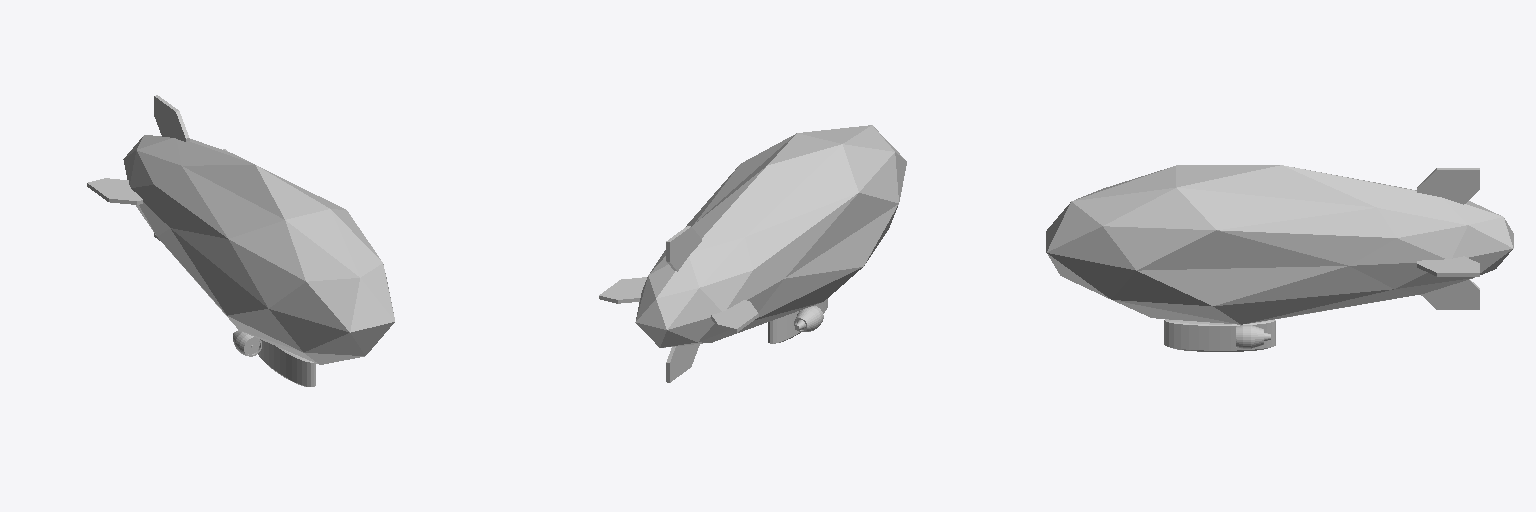
File: Zeppelin.obj
The picture shows the model from 3 angles: view 1: azimuth 30°, elevation 25°; view 2: azimuth 150°, elevation 25°; view 3: azimuth 270°, elevation 25°; orthographic projection.
Visible parts, largest first — view 1: Zepelin; view 2: Zepelin; view 3: Zepelin.
Part boxes in pixels (bbox=[...]): Zepelin: bbox=[87, 95, 394, 386]; Zepelin: bbox=[599, 125, 906, 382]; Zepelin: bbox=[1046, 165, 1513, 351].
Size of the model in its own units: 1.88 by 2.37 by 5.52.